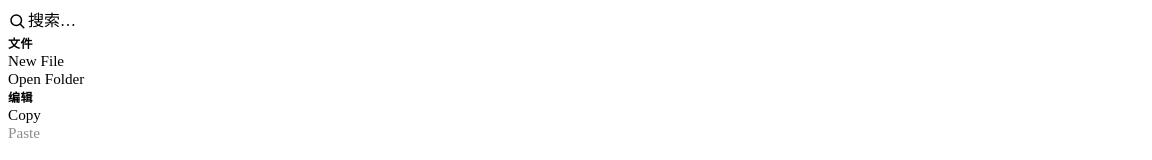
Test case: Command › keywords 命中:label 不含但别名命中也保留
Type "create" into the dropdown at (585, 21), box 26,8 -> 1144,34
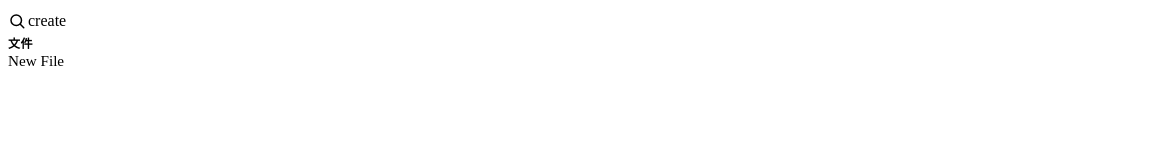
Expected: the option reads "New File", 8,52 -> 64,69
Expected: the number of options is 1, 8,52 -> 64,69
